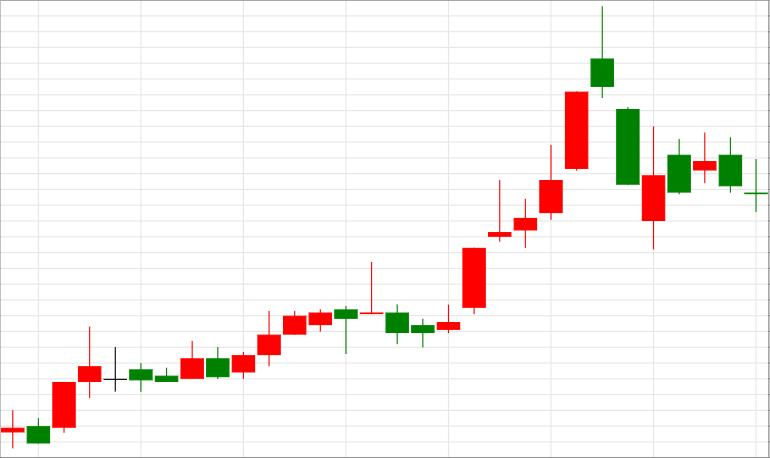shooting_star_fall: (437, 6, 614, 335)
